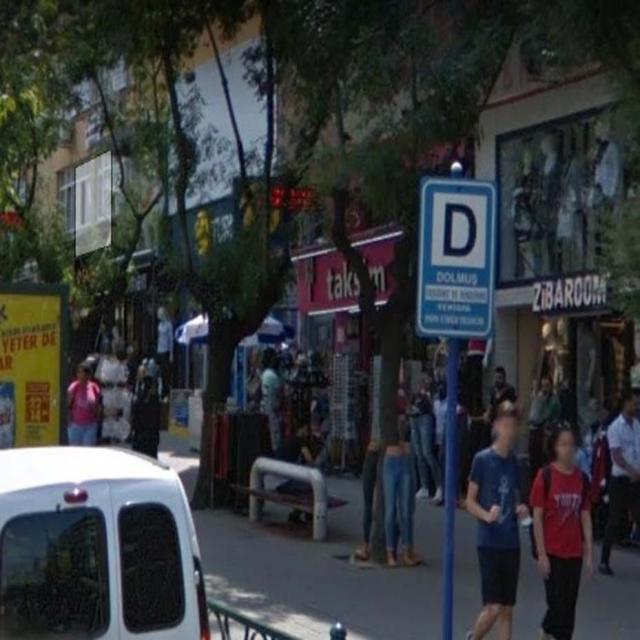durak: (412, 172, 494, 341)
